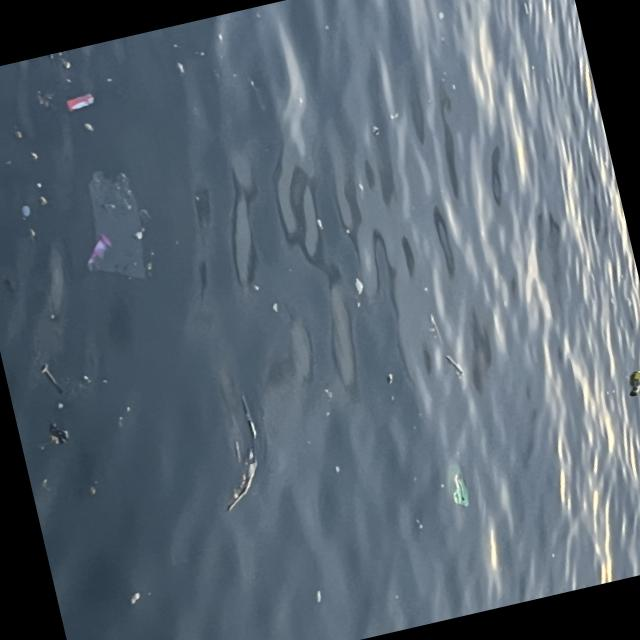plastic bottle: (65, 163, 156, 292), (64, 92, 98, 114), (447, 473, 468, 508)
unknow: (623, 369, 640, 396)
